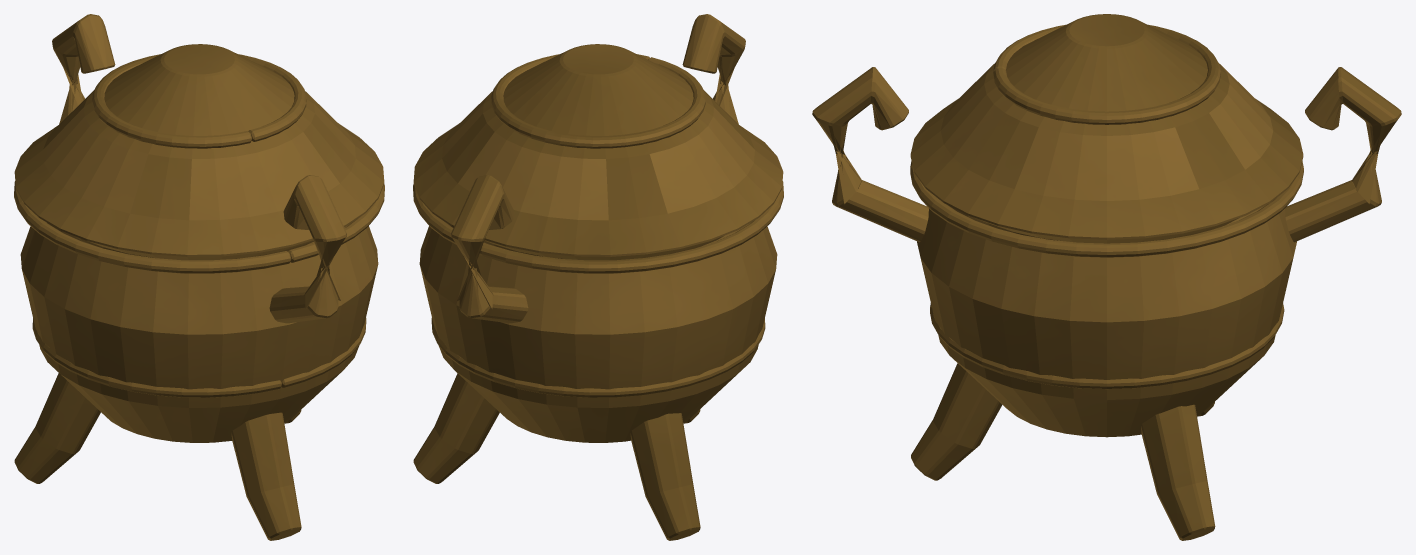
File: a03_censer.fbx
The picture shows the model from 3 angles, left to right: view 1: azimuth 30°, elevation 25°; view 2: azimuth 150°, elevation 25°; view 3: azimuth 270°, elevation 25°; orthographic projection. The views are drawn at different scales.
Parts seen in each view (by area): view 1: a03_censer.003; view 2: a03_censer.003; view 3: a03_censer.003.
Part boxes in pixels (<box>): a03_censer.003: <box>14,14,384,540</box>; a03_censer.003: <box>413,14,783,540</box>; a03_censer.003: <box>812,14,1401,540</box>.
Bounding box in the file's own units: 14877 × 9950 × 12479.
